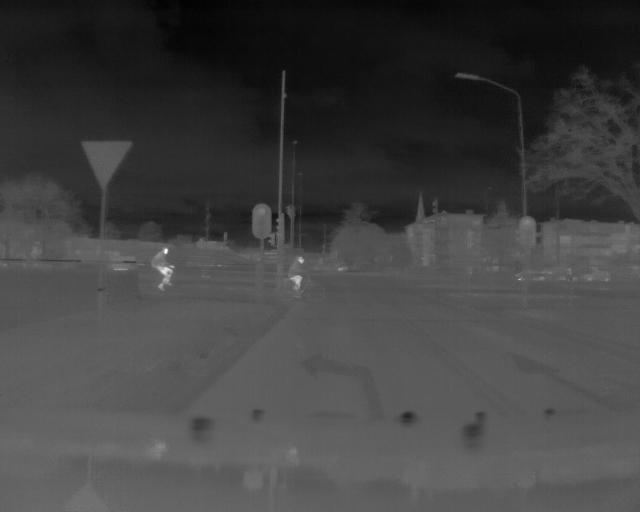person: (149, 245, 176, 291), (287, 253, 306, 296)
